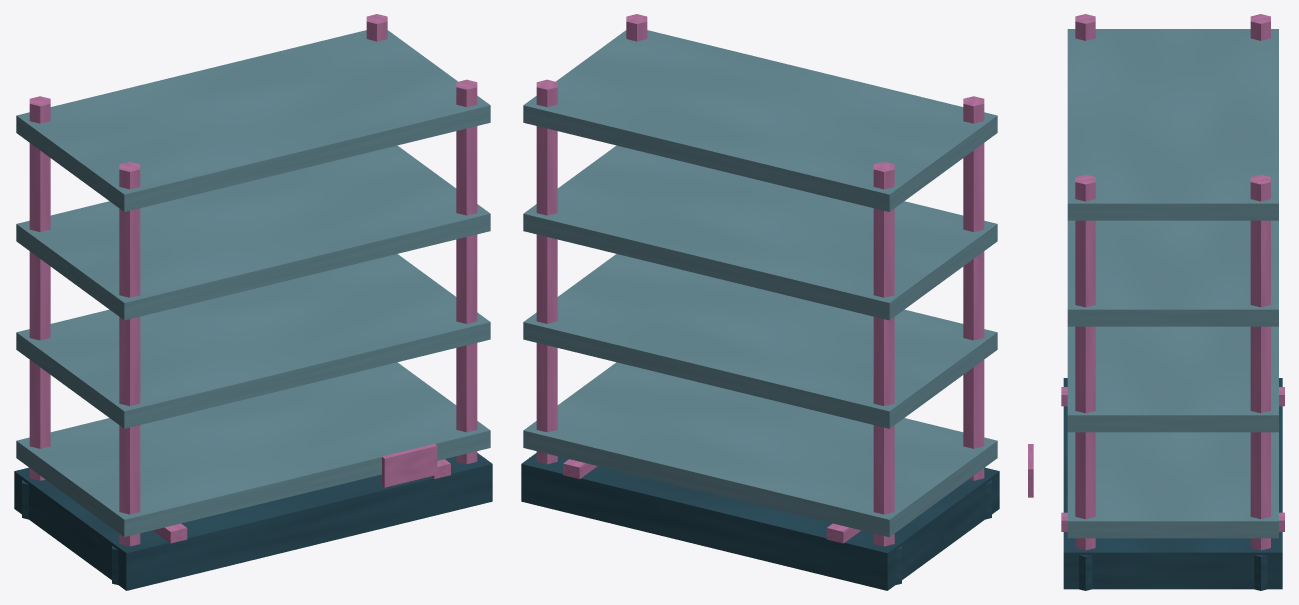
The model's file is atlas100-s062-a06.lod1.glb.
3 views of the same model, side by side, from view 1: azimuth 30°, elevation 25°; view 2: azimuth 150°, elevation 25°; view 3: azimuth 270°, elevation 25° (orthographic). The views are drawn at different scales.
Visible parts, largest first — view 1: atlas100-s062-a06:part-014, atlas100-s062-a06:part-013, atlas100-s062-a06:part-012, atlas100-s062-a06:part-011, atlas100-s062-a06:part-000, atlas100-s062-a06:part-005, atlas100-s062-a06:part-009, atlas100-s062-a06:part-003, atlas100-s062-a06:part-015; view 2: atlas100-s062-a06:part-014, atlas100-s062-a06:part-011, atlas100-s062-a06:part-013, atlas100-s062-a06:part-012, atlas100-s062-a06:part-000, atlas100-s062-a06:part-003, atlas100-s062-a06:part-007, atlas100-s062-a06:part-005; view 3: atlas100-s062-a06:part-014, atlas100-s062-a06:part-011, atlas100-s062-a06:part-012, atlas100-s062-a06:part-013, atlas100-s062-a06:part-000, atlas100-s062-a06:part-007, atlas100-s062-a06:part-009, atlas100-s062-a06:part-005, atlas100-s062-a06:part-003, atlas100-s062-a06:part-008, atlas100-s062-a06:part-010.
Boxes of the visible parts, x1=… form: atlas100-s062-a06:part-014: x1=16, y1=30, x2=490, y2=211; atlas100-s062-a06:part-013: x1=16, y1=145, x2=490, y2=320; atlas100-s062-a06:part-012: x1=16, y1=254, x2=490, y2=428; atlas100-s062-a06:part-011: x1=16, y1=362, x2=490, y2=537; atlas100-s062-a06:part-000: x1=14, y1=453, x2=492, y2=590; atlas100-s062-a06:part-005: x1=119, y1=162, x2=140, y2=546; atlas100-s062-a06:part-009: x1=456, y1=79, x2=477, y2=464; atlas100-s062-a06:part-003: x1=29, y1=96, x2=50, y2=480; atlas100-s062-a06:part-015: x1=382, y1=444, x2=437, y2=487; atlas100-s062-a06:part-014: x1=523, y1=30, x2=997, y2=211; atlas100-s062-a06:part-011: x1=523, y1=362, x2=997, y2=537; atlas100-s062-a06:part-013: x1=523, y1=145, x2=997, y2=320; atlas100-s062-a06:part-012: x1=523, y1=254, x2=997, y2=428; atlas100-s062-a06:part-000: x1=521, y1=453, x2=999, y2=590; atlas100-s062-a06:part-003: x1=873, y1=162, x2=894, y2=546; atlas100-s062-a06:part-007: x1=536, y1=79, x2=557, y2=464; atlas100-s062-a06:part-005: x1=963, y1=96, x2=984, y2=480; atlas100-s062-a06:part-014: x1=1067, y1=29, x2=1278, y2=220; atlas100-s062-a06:part-011: x1=1067, y1=432, x2=1278, y2=538; atlas100-s062-a06:part-012: x1=1067, y1=326, x2=1278, y2=432; atlas100-s062-a06:part-013: x1=1067, y1=220, x2=1278, y2=326; atlas100-s062-a06:part-000: x1=1063, y1=378, x2=1282, y2=589; atlas100-s062-a06:part-007: x1=1250, y1=174, x2=1270, y2=550; atlas100-s062-a06:part-009: x1=1075, y1=174, x2=1095, y2=550; atlas100-s062-a06:part-005: x1=1075, y1=14, x2=1095, y2=40; atlas100-s062-a06:part-003: x1=1250, y1=14, x2=1270, y2=40; atlas100-s062-a06:part-008: x1=1254, y1=555, x2=1267, y2=590; atlas100-s062-a06:part-010: x1=1079, y1=555, x2=1092, y2=590.
Bounding box in the file's own units: 2.69 × 2.84 × 1.64.
Materials: 3 (3 with a texture image).
